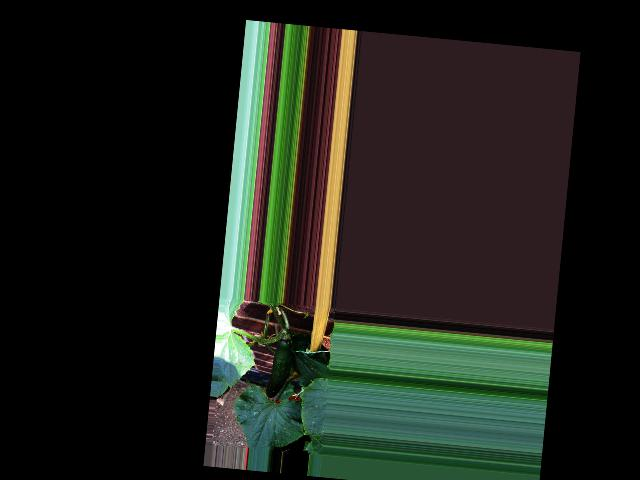cucumber: (264, 337, 293, 399)
